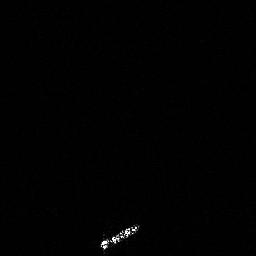ship: (99, 222, 141, 256)
